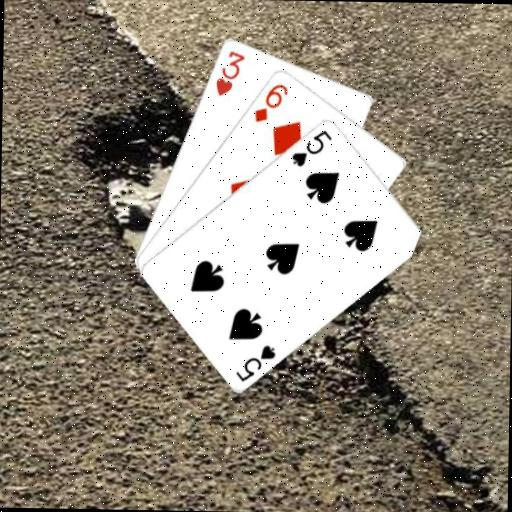3H: (212, 47, 246, 98)
5S: (288, 126, 334, 169), (232, 341, 278, 383)
6D: (251, 79, 289, 124)
